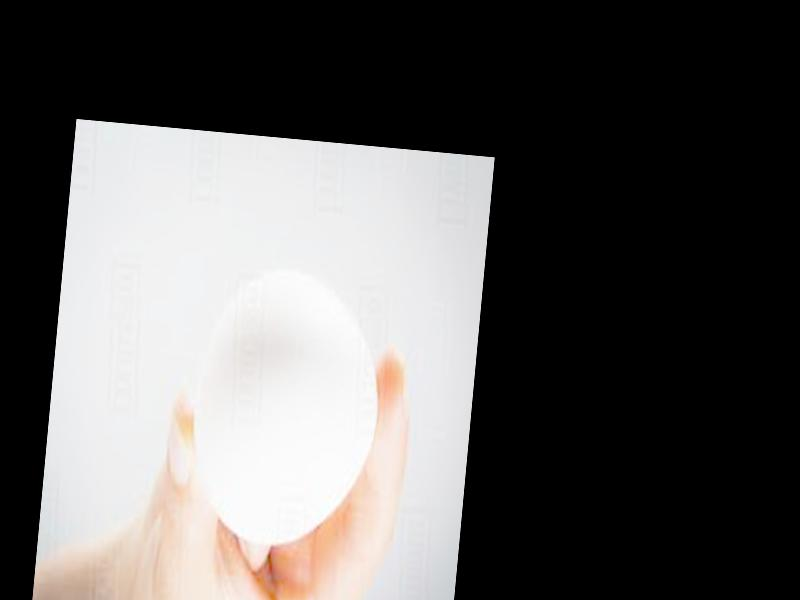Eggs: (184, 266, 390, 542)
